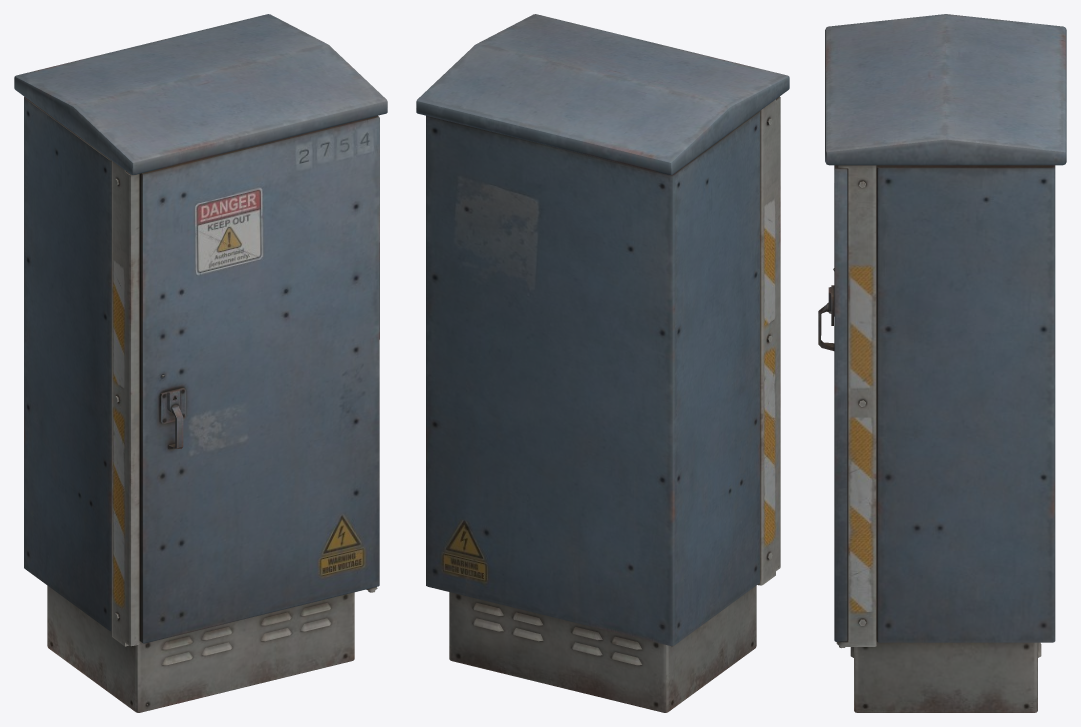
File: UtilityBox_LOD1.obj
The picture shows the model from 3 angles, left to right: view 1: azimuth 30°, elevation 25°; view 2: azimuth 150°, elevation 25°; view 3: azimuth 270°, elevation 25°; orthographic projection.
Visible parts, largest first — view 1: utility_box_01_box; view 2: utility_box_01_box; view 3: utility_box_01_box.
Boxes of the visible parts, bbox=[...] form: utility_box_01_box: bbox=[14, 14, 387, 712]; utility_box_01_box: bbox=[416, 14, 789, 712]; utility_box_01_box: bbox=[818, 14, 1066, 712].
Size of the model in its own units: 0.52 by 1.12 by 0.432.
Materials: 1 (1 with a texture image).
